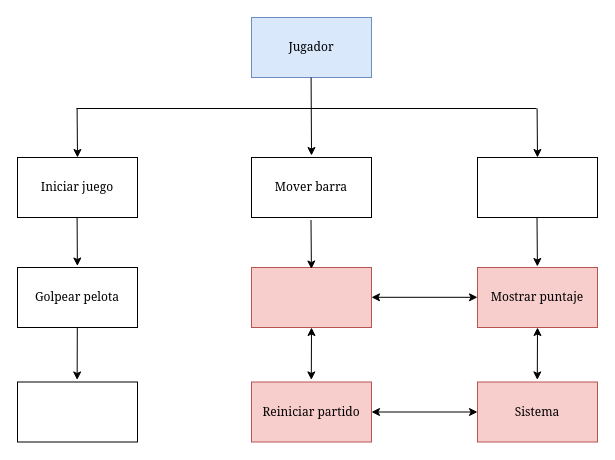
Some shapes in this 615 by 460 pixel diagram are drawn without their labels. The shapes that lost their labels are listed below. From the top down, each one's centre as x and y in pixels, then its label:
At point (537, 187): "Controlar barra".
At point (311, 297): "Puntuar".
At point (77, 411): "Finalizar juego".
